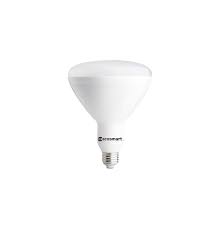bulb: (57, 46, 159, 146)
